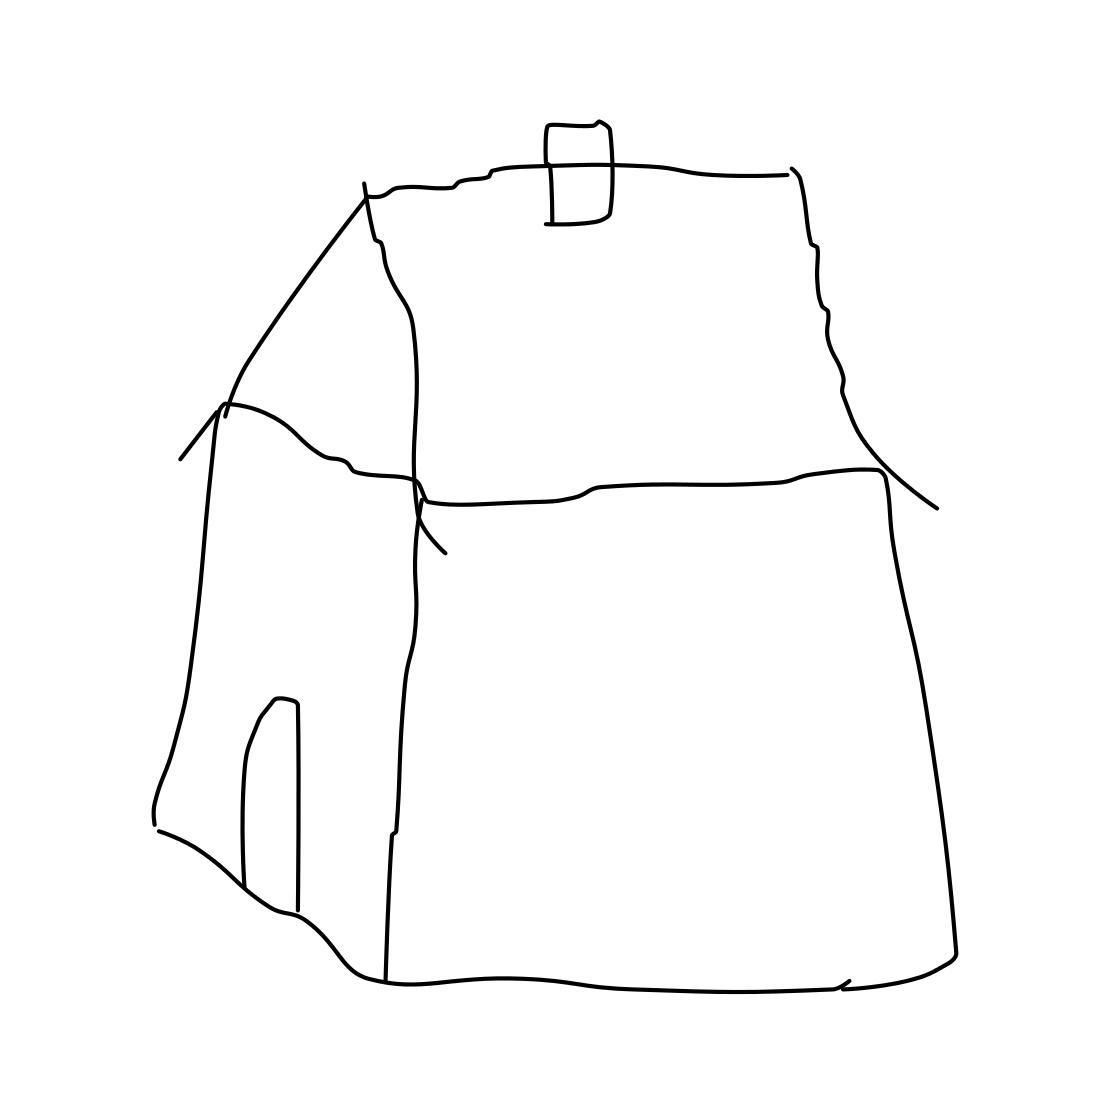House: (105, 108, 990, 1000)
